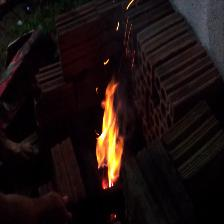fire: (72, 58, 139, 199)
